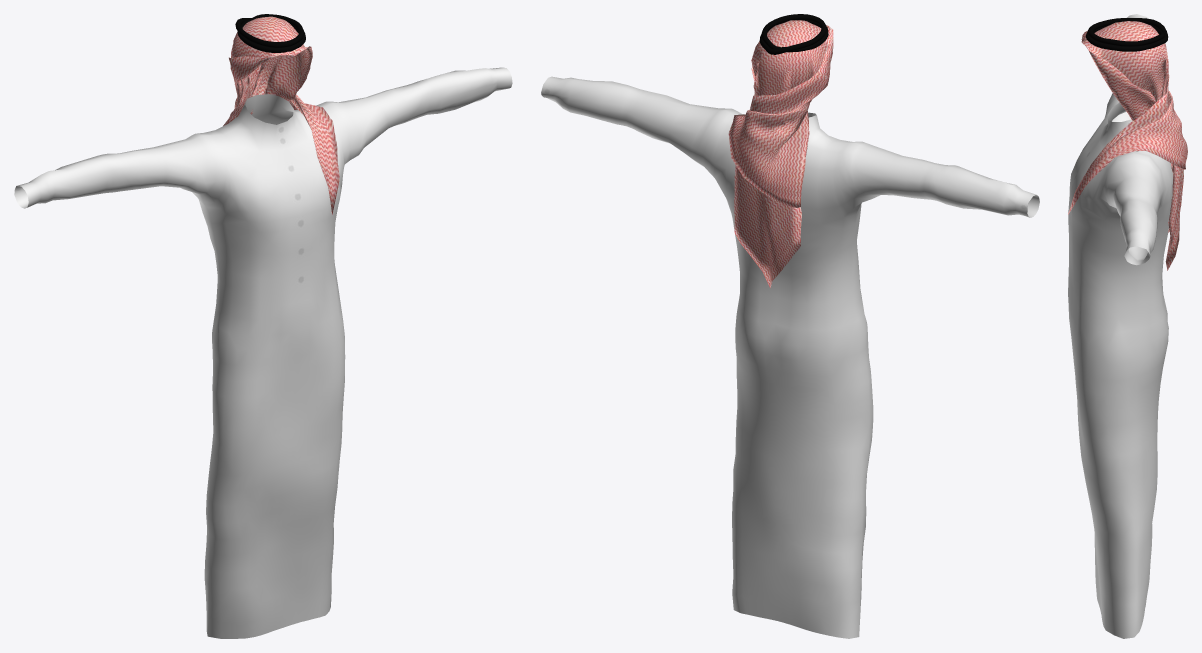
File: Uniform.fbx
The picture shows the model from 3 angles, left to right: view 1: azimuth 30°, elevation 25°; view 2: azimuth 150°, elevation 25°; view 3: azimuth 270°, elevation 25°; orthographic projection.
Parts seen in each view (by area): view 1: avaturn_look_0; view 2: avaturn_look_0; view 3: avaturn_look_0.
Boxes of the visible parts, left/top/right/bottom form: avaturn_look_0: left=14, top=14, right=512, bottom=638; avaturn_look_0: left=541, top=14, right=1039, bottom=638; avaturn_look_0: left=1068, top=14, right=1187, bottom=638.
Size of the model in its own units: 144 by 170 by 31.39.
Materials: 1 (1 with a texture image).
